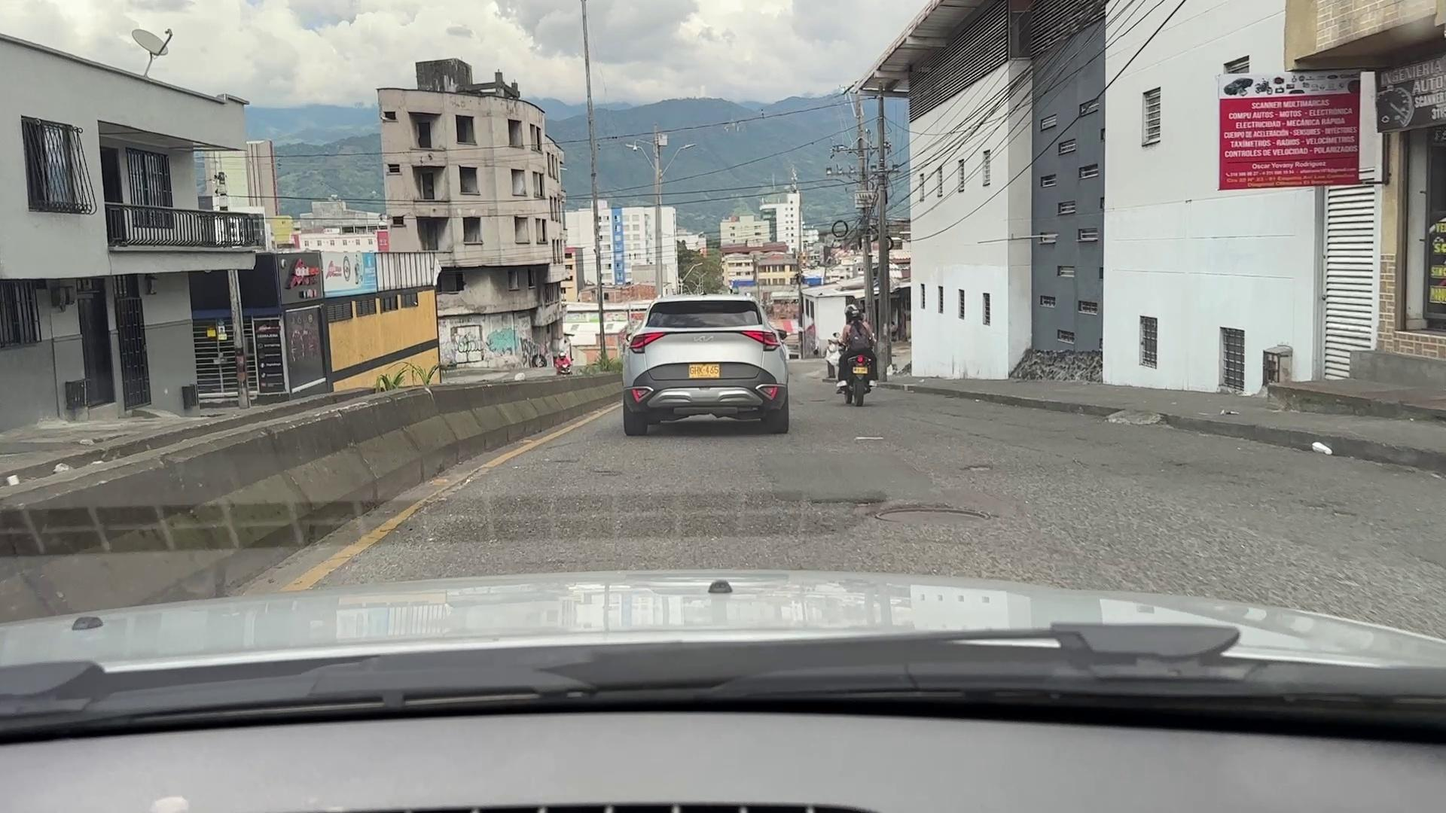bache: (812, 498, 880, 505), (854, 436, 883, 441), (965, 465, 992, 470)
registro: (876, 507, 989, 523)
